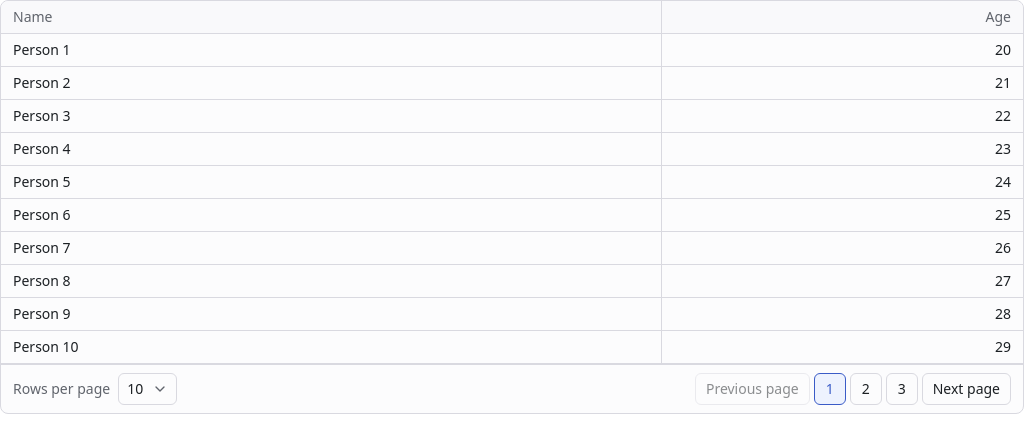
Test: Table pagination › reports the whole result set and each row's absolute position to assistive tech
Expected: the text "Person 1" is shown, [1,34,662,67]
Step 1. Click the button named "Page 2" → (866, 389), box [850,373,882,405]
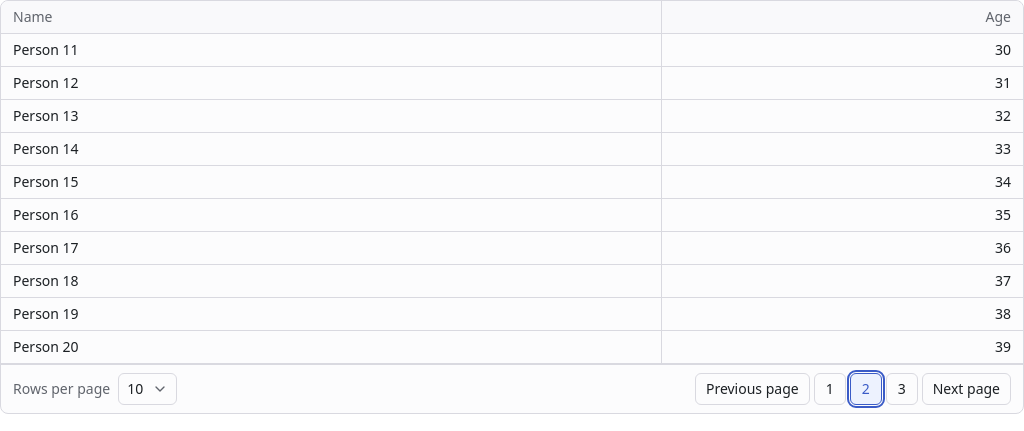
Now the text "Person 11" is shown, box [1,34,662,67]
